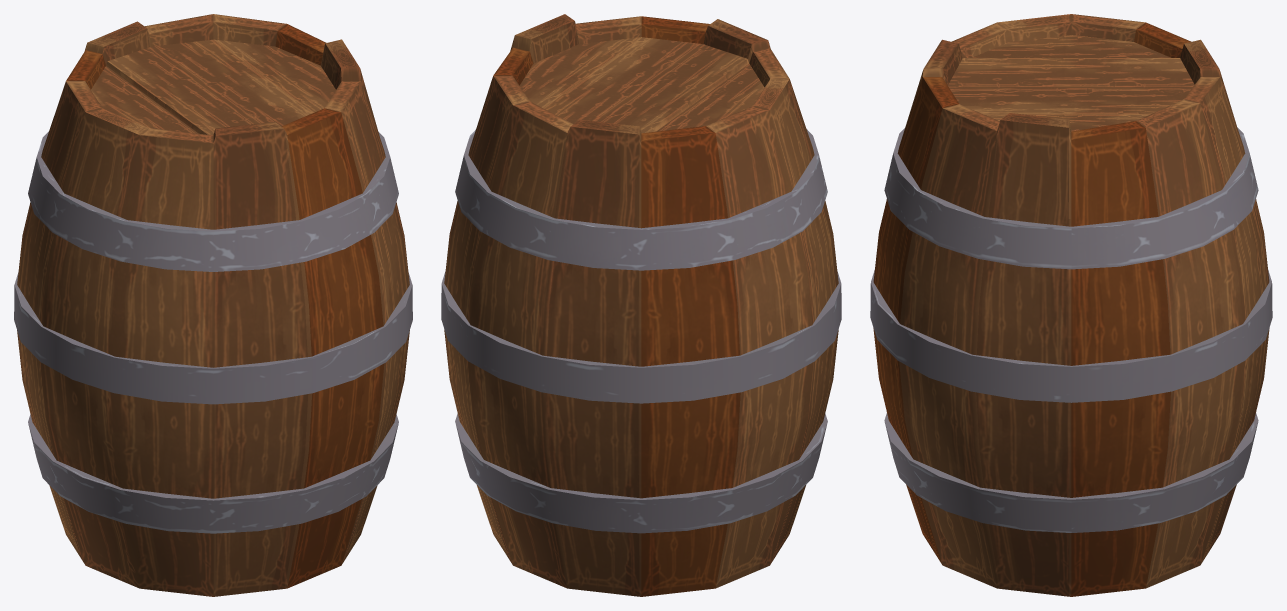
The model's file is barrel.glb.
3 renders of one model, left to right at view 1: azimuth 30°, elevation 25°; view 2: azimuth 150°, elevation 25°; view 3: azimuth 270°, elevation 25°, orthographic.
Visible parts, largest first — view 1: Barrel; view 2: Barrel; view 3: Barrel.
Part boxes in pixels (x1,y1,x2,y2): Barrel: (14,14,412,596); Barrel: (441,14,841,596); Barrel: (870,14,1272,596).
Size of the model in its own units: 0.698 by 0.898 by 0.698.
Materials: 2 (2 with a texture image).
